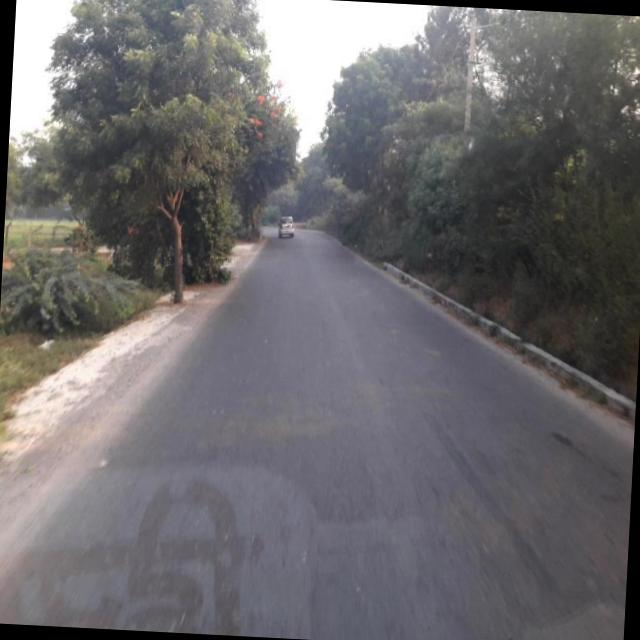pothole: (110, 540, 210, 632)
